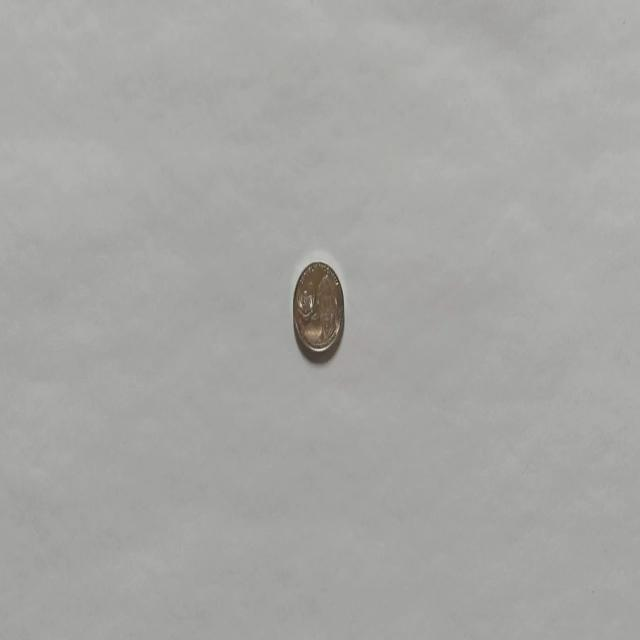dua ratus rupiah: (292, 260, 344, 354)
